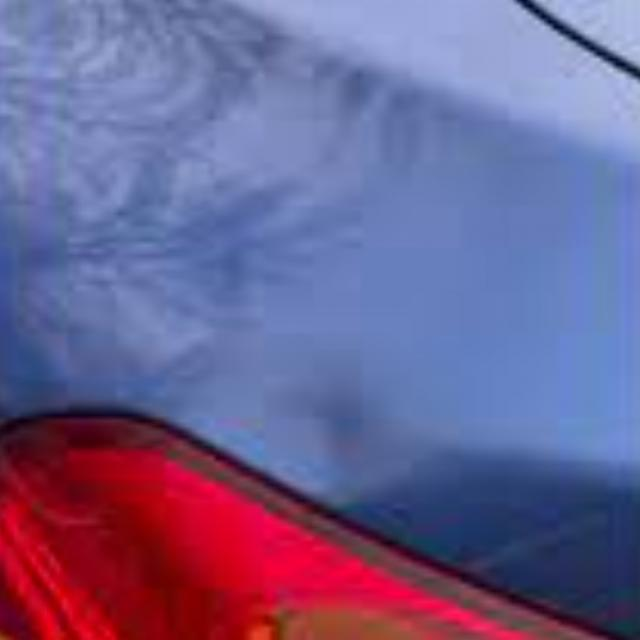dents: (260, 364, 409, 502)
